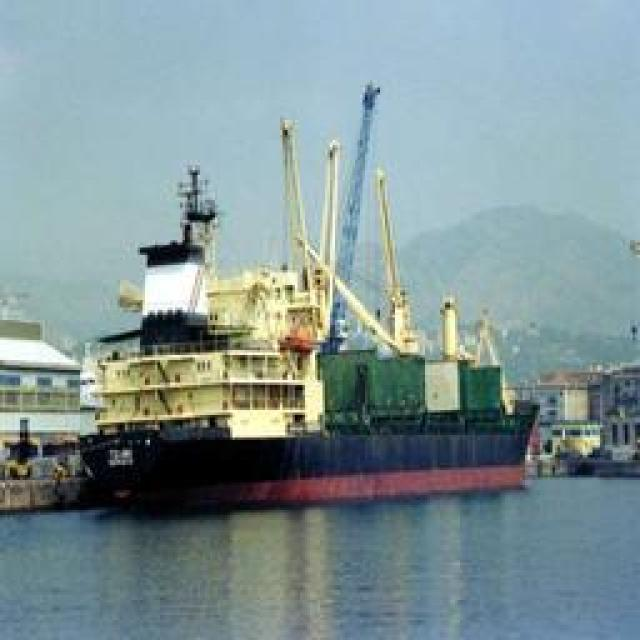CIV_Ship: (81, 69, 539, 499)
